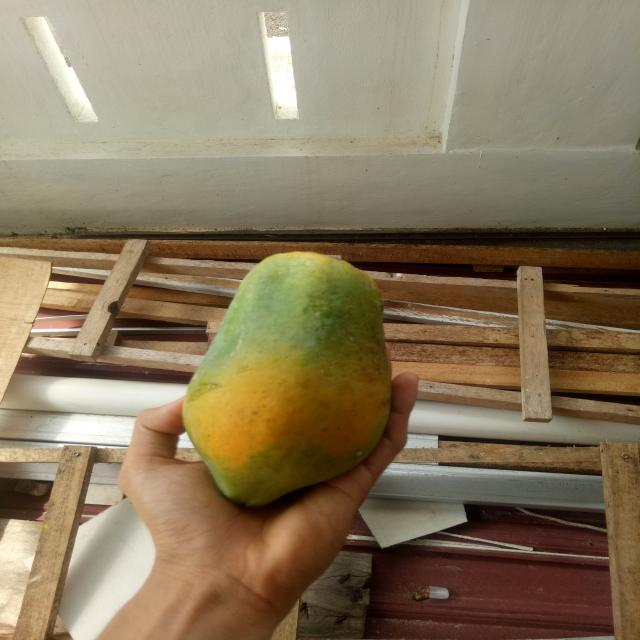Pepaya rippen: (180, 245, 398, 503)
